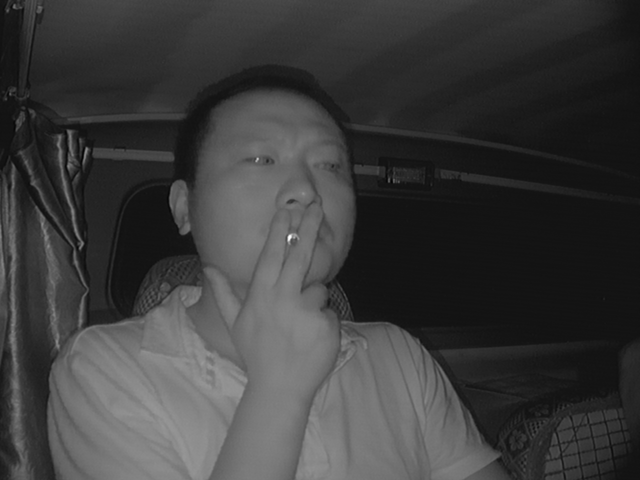hand: (253, 212, 341, 351)
